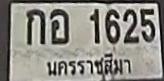1: (89, 8, 98, 43)
2: (122, 9, 138, 42)
5: (139, 8, 154, 42)
6: (104, 8, 119, 43)
A01: (26, 8, 44, 44)
A43: (49, 8, 68, 44)
NMA: (44, 53, 133, 79)
